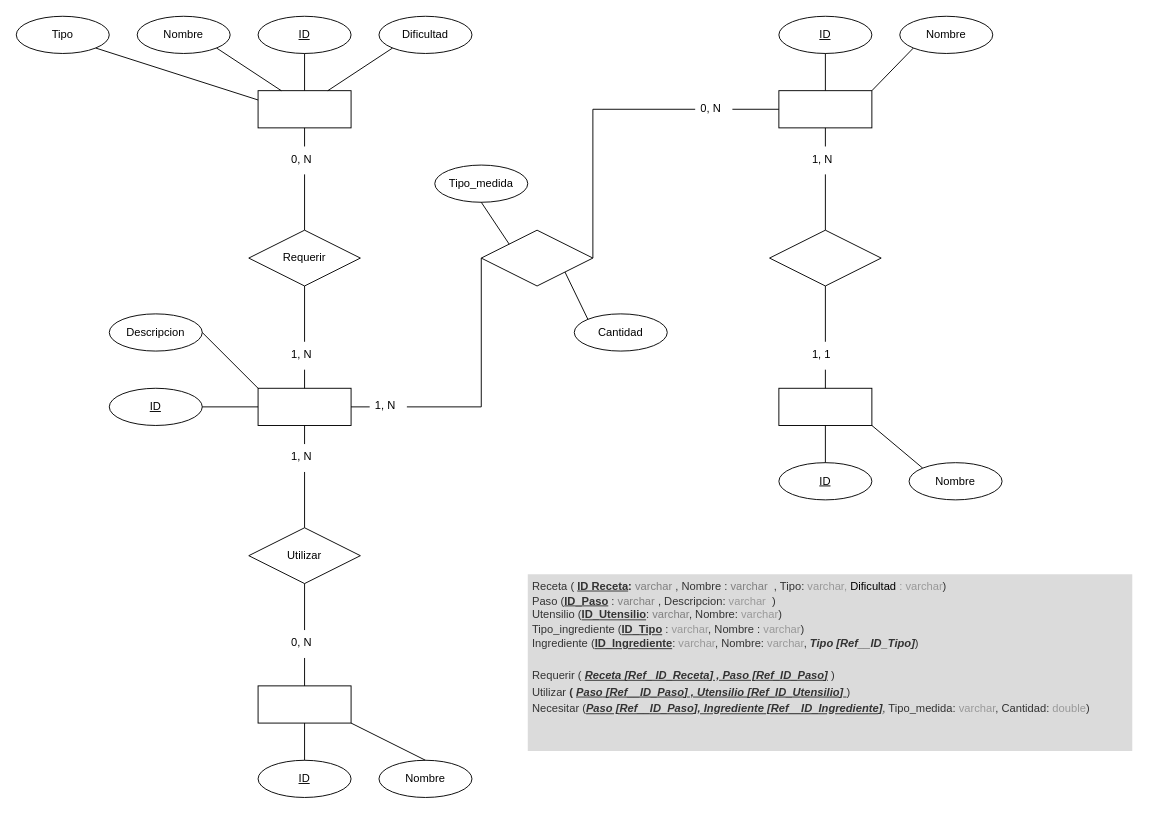
The diagram is 1149 pixels wide and 814 high, and some of its shapes have lost their labels. The shapes that lost their labels are listed below. From the top down, each one's centre as x and y in pixels, then its label:
the point at 304,109: Receta
the point at 825,109: Ingrediente
the point at 536,257: Necesitar
the point at 825,257: Pertenecer
the point at 304,406: Paso
the point at 825,406: Tipo_ingrediente
the point at 304,704: Utensilio
